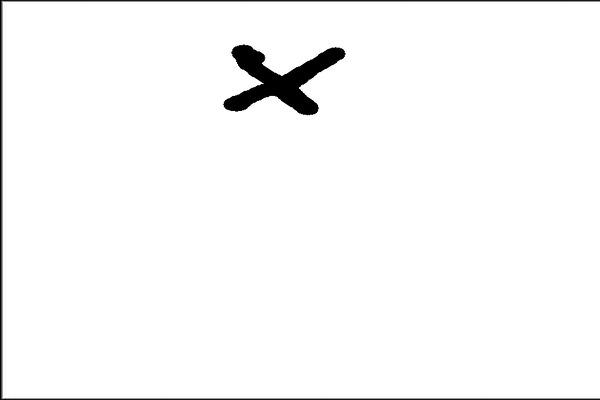X: (206, 27, 372, 148)
